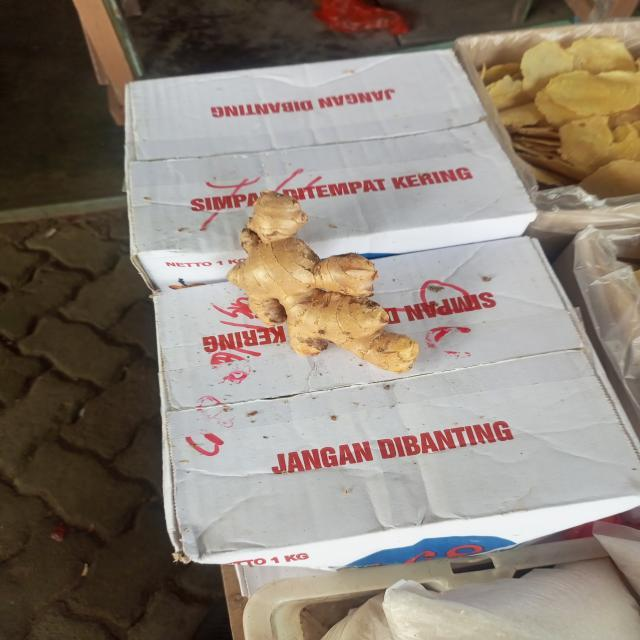ginger: (235, 200, 414, 372)
